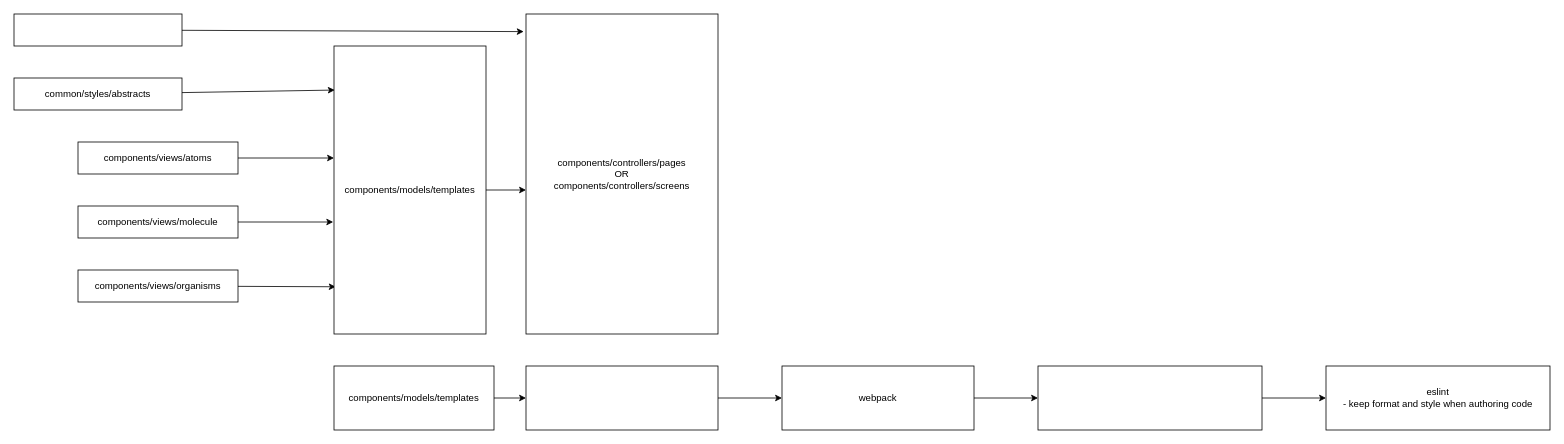
Image size: 1564x444. Some labels were removed from this diagram. Here are the shapes that lost their labels. From the top down, the box of each, then its label:
(13, 13, 182, 46): common/styles/base.scss
(525, 365, 718, 430): components/controllers/pages/*.js OR components/controllers/screens/*.js
(1037, 365, 1262, 430): - babel-loader - transpile
